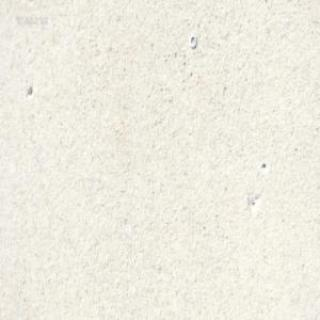Washertrack_idkeyframe: (188, 32, 196, 48)
